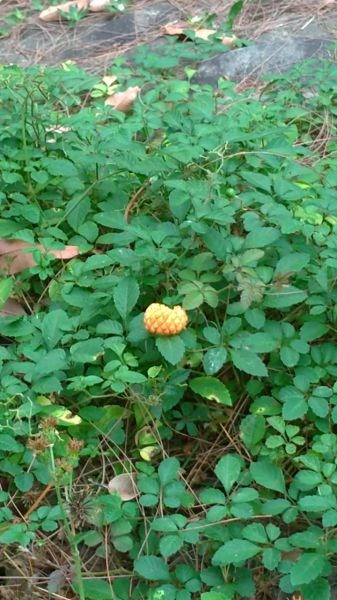eggs: (136, 297, 196, 338)
